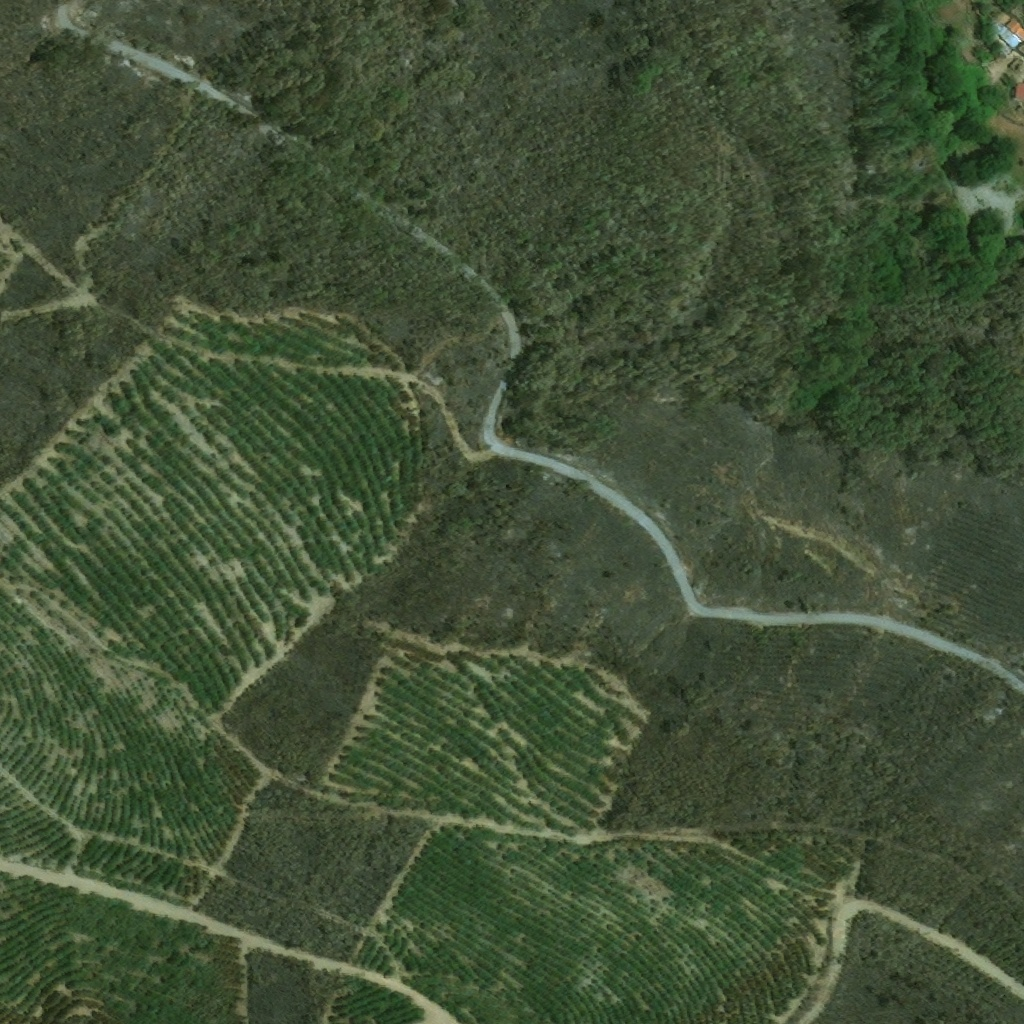0 no-damage: (990, 20, 1021, 50), (1005, 17, 1021, 33), (999, 12, 1011, 25)
4 un-classified: (1006, 56, 1023, 74), (1011, 4, 1023, 24), (1015, 84, 1023, 100), (1014, 27, 1023, 41)
